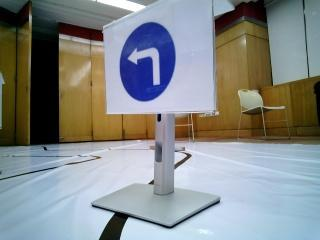left: (106, 27, 204, 104)
